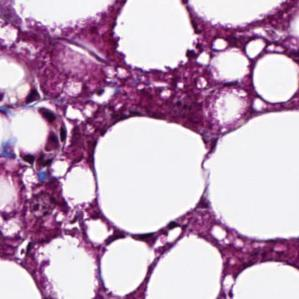inflammation: (34, 103, 74, 152)
